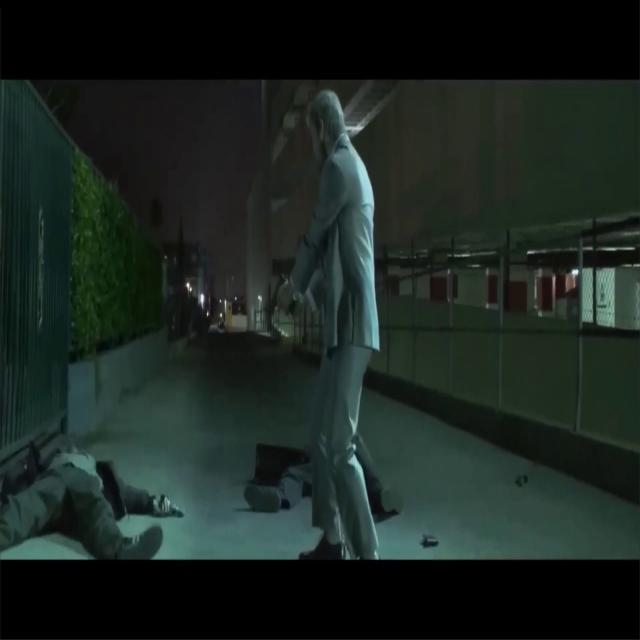Gun: (264, 274, 296, 322), (155, 494, 188, 518)
